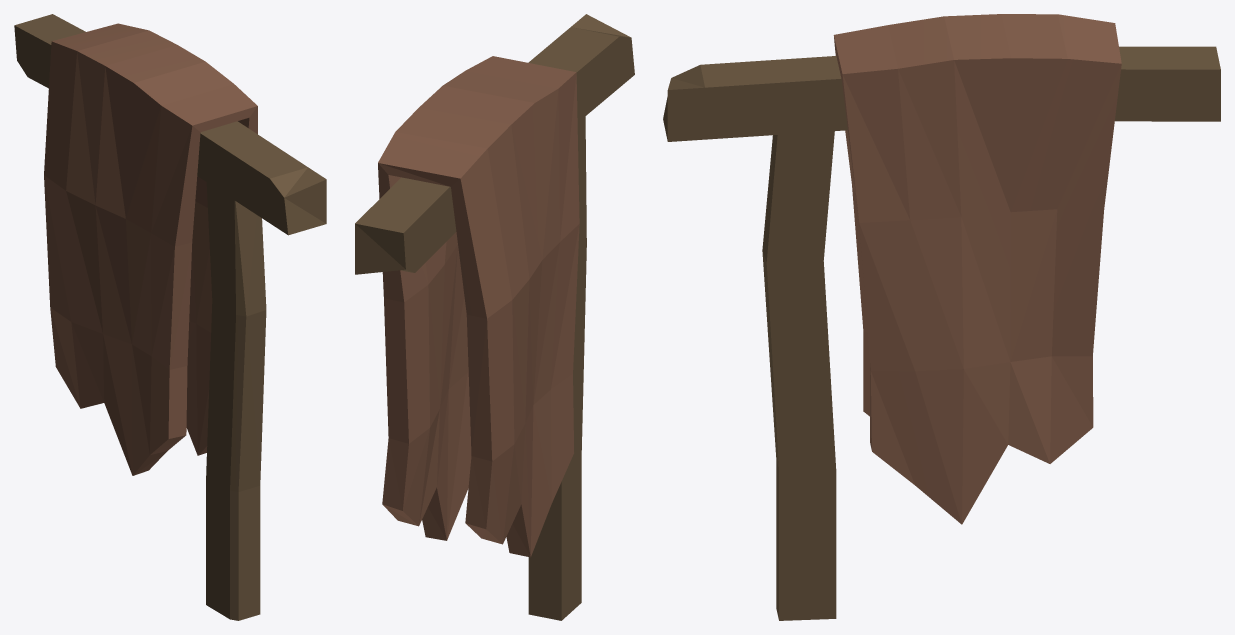
File: SM_Bld_Village_HangingCloth_01.gltf
The picture shows the model from 3 angles, left to right: view 1: azimuth 30°, elevation 25°; view 2: azimuth 150°, elevation 25°; view 3: azimuth 270°, elevation 25°; orthographic projection. The views are drawn at different scales.
Parts seen in each view (by area): view 1: SM_Bld_Village_HangingCloth_01; view 2: SM_Bld_Village_HangingCloth_01; view 3: SM_Bld_Village_HangingCloth_01.
Boxes of the visible parts, x1=… form: SM_Bld_Village_HangingCloth_01: x1=14, y1=14, x2=326, y2=620; SM_Bld_Village_HangingCloth_01: x1=355, y1=14, x2=634, y2=620; SM_Bld_Village_HangingCloth_01: x1=663, y1=14, x2=1220, y2=620.
Bounding box in the file's own units: 0.577 × 2.39 × 2.11.
1 material, 1 textured.
